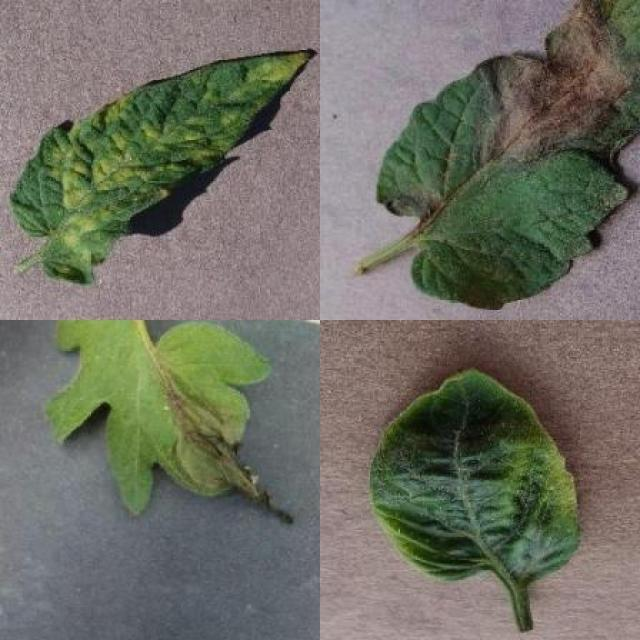Late Blight: (377, 0, 640, 310), (45, 320, 294, 526)
Leaf Mold: (13, 49, 310, 282)
Yellow Leaf Curl Virus: (368, 367, 582, 582)
